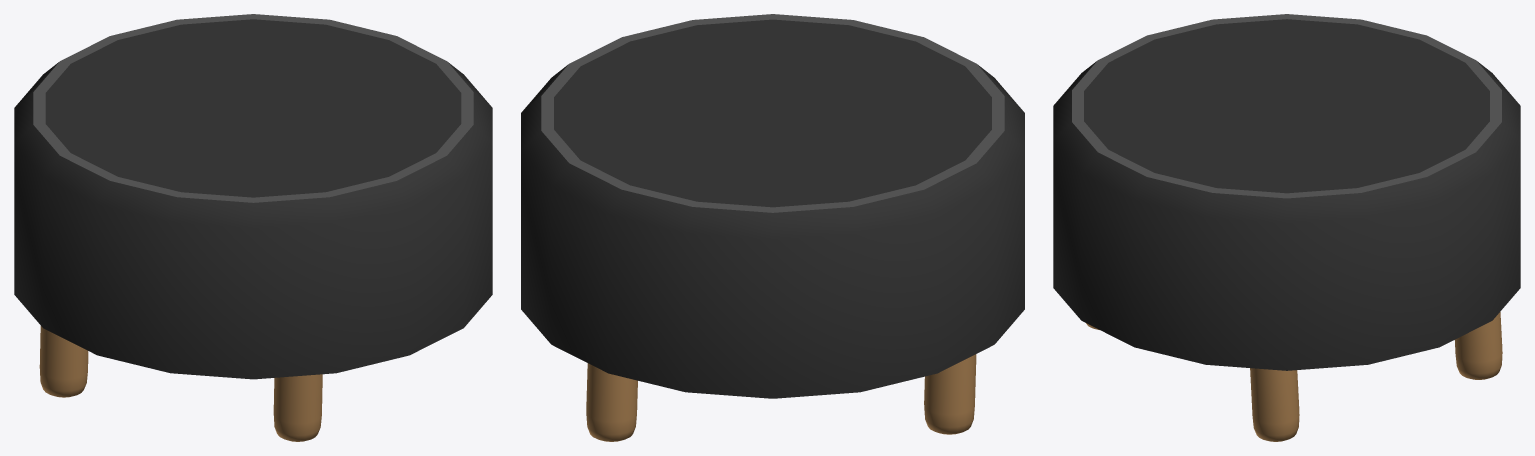
File: Silla-2.FBX
3 renders of one model, left to right at view 1: azimuth 30°, elevation 25°; view 2: azimuth 150°, elevation 25°; view 3: azimuth 270°, elevation 25°, orthographic. The views are drawn at different scales.
Visible parts, largest first — view 1: Cylinder001; view 2: Cylinder001; view 3: Cylinder001.
Part boxes in pixels (x1,y1,x2,y2): Cylinder001: (14, 14, 492, 441); Cylinder001: (521, 14, 1024, 441); Cylinder001: (1053, 14, 1520, 441).
Size of the model in its own units: 148 by 146 by 83.33.
